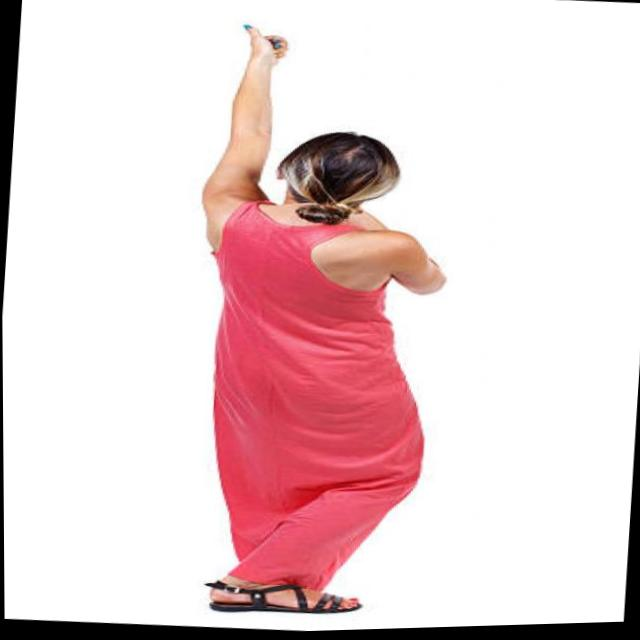no helmet: (276, 121, 399, 231)
